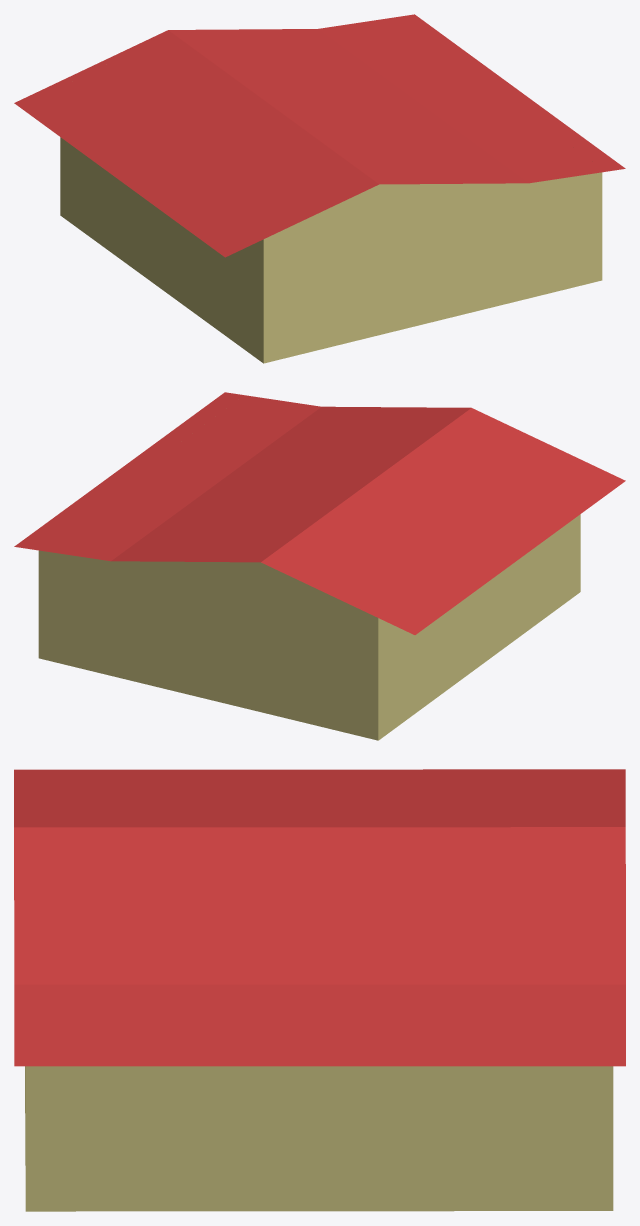
The picture shows the model from 3 angles, top to bottom: view 1: azimuth 30°, elevation 25°; view 2: azimuth 150°, elevation 25°; view 3: azimuth 270°, elevation 25°; orthographic projection. The views are drawn at different scales.
Size of the model in its own units: 29.02 by 26.46 by 10.67.
